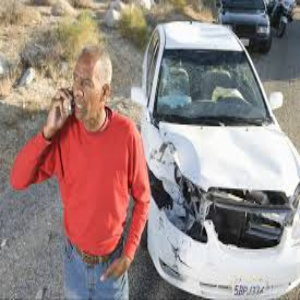bonnet: (178, 126, 297, 192)
bumper: (192, 223, 300, 281)
